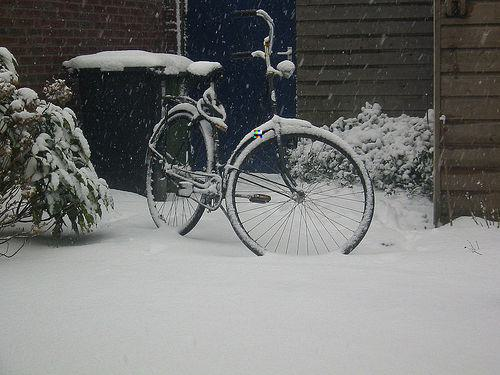car: (140, 10, 377, 258)
